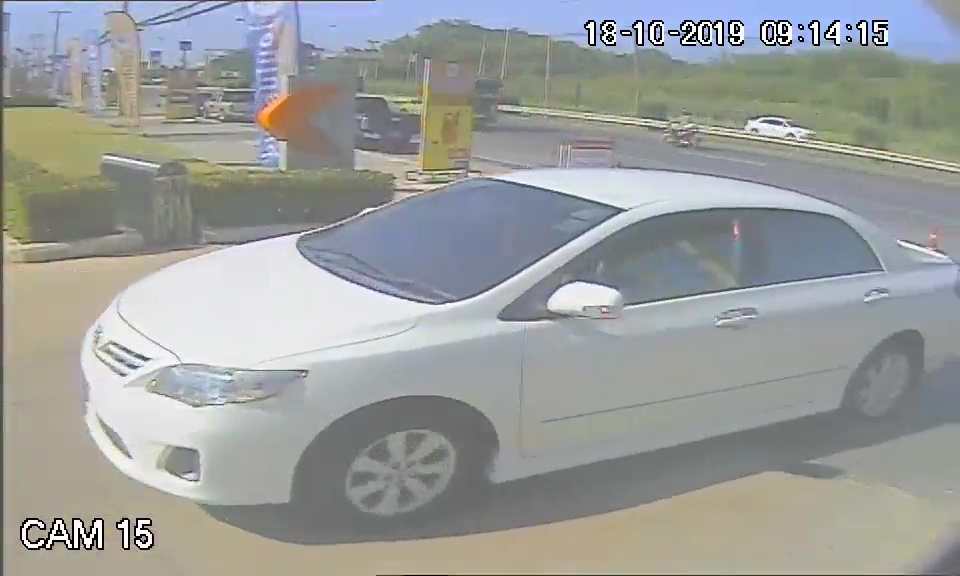sedan: (77, 169, 761, 514)
